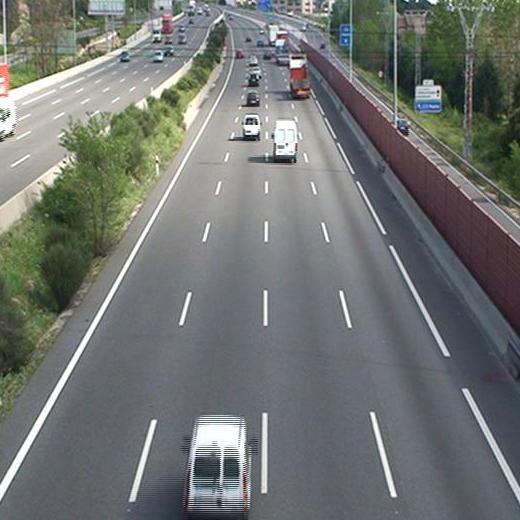car: (246, 92, 262, 106), (248, 72, 260, 87), (248, 54, 258, 65), (235, 49, 242, 59)
truck: (292, 53, 310, 100)
van: (184, 417, 252, 520), (273, 119, 297, 163), (242, 115, 260, 140)
